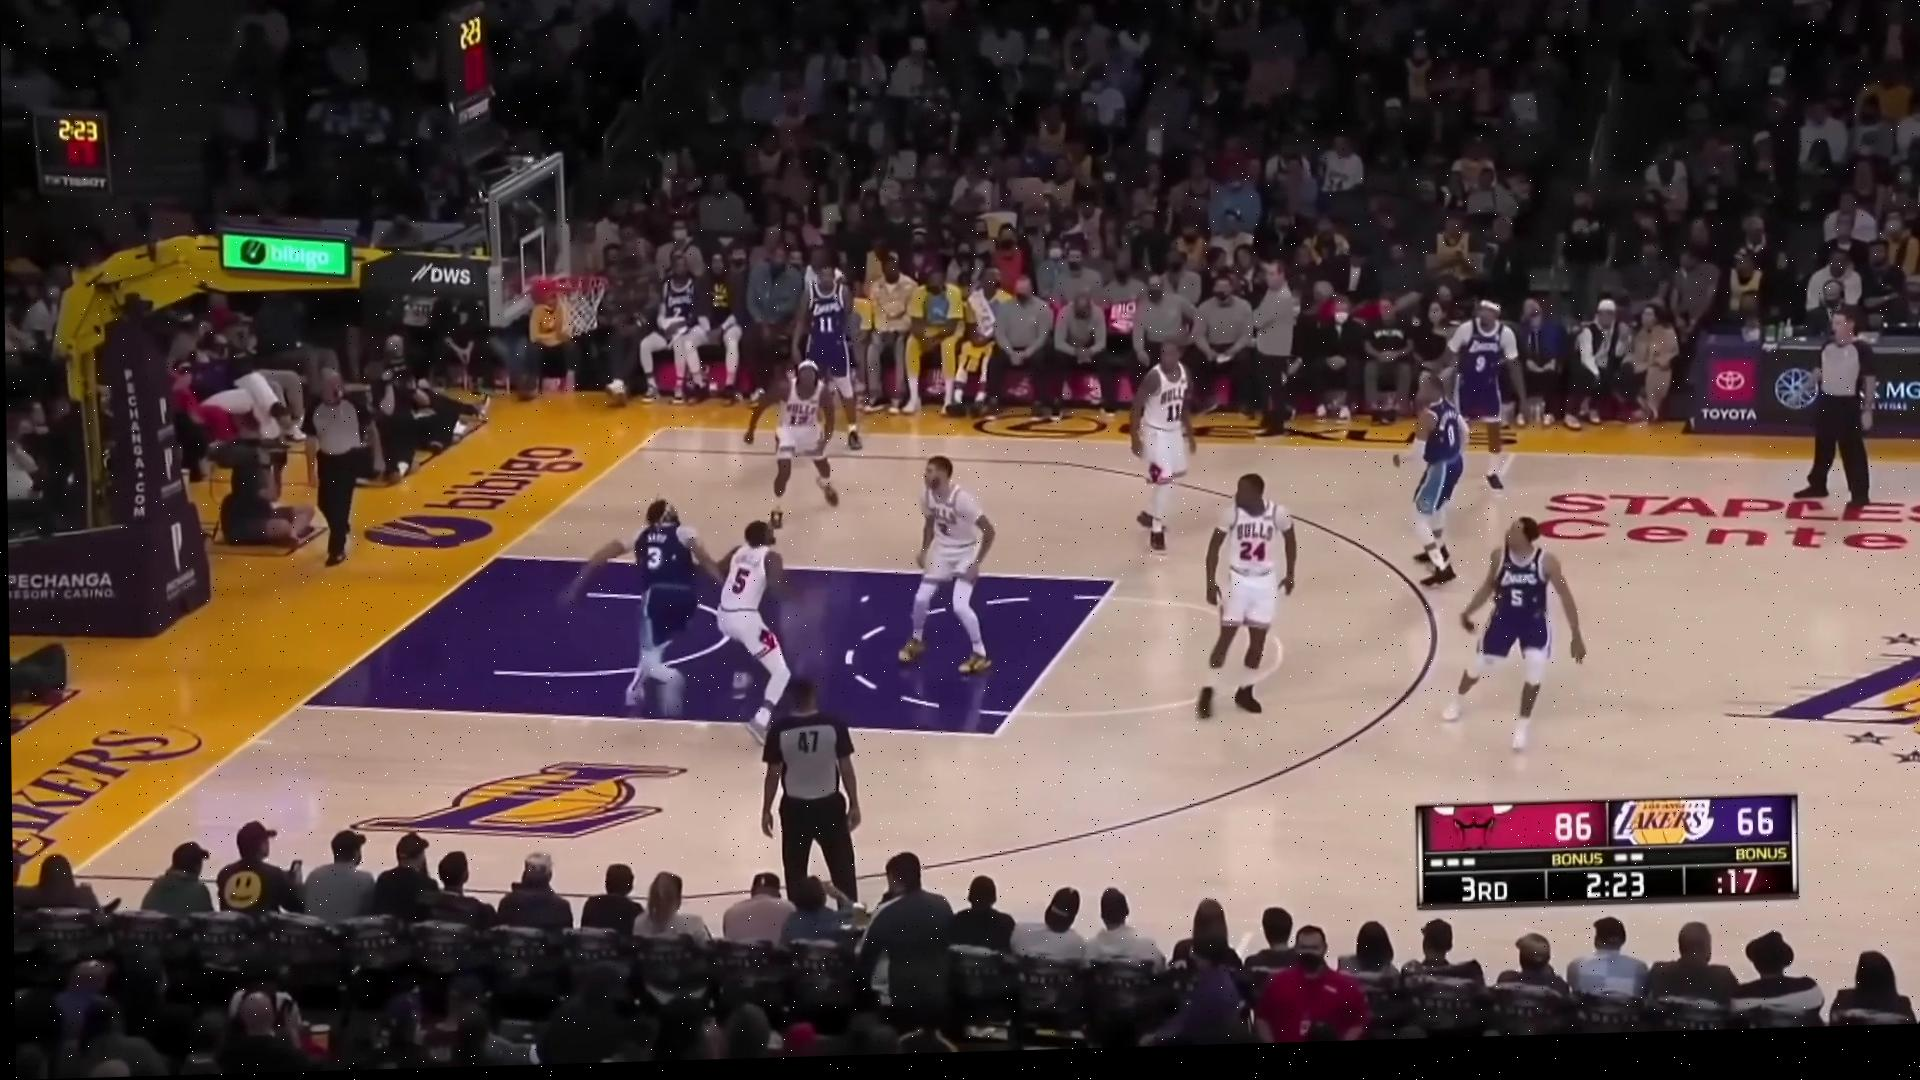no_foul: (585, 491, 869, 731)
